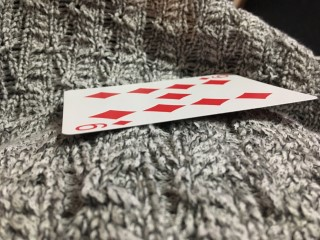NineOfDiamonds: (61, 75, 317, 136)
